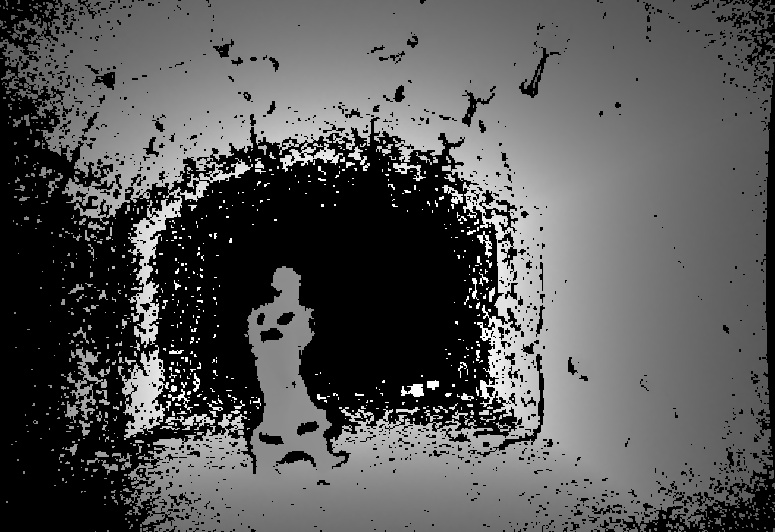person: (247, 265, 348, 474)
